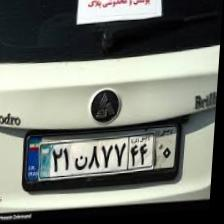plate: (22, 124, 182, 187)
